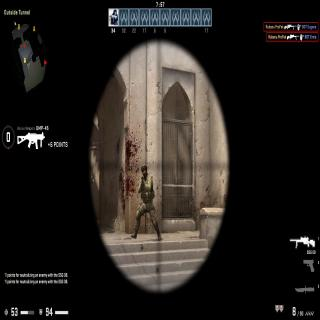CT-Body: (135, 158, 157, 240)
CT-Head: (140, 164, 148, 176)
